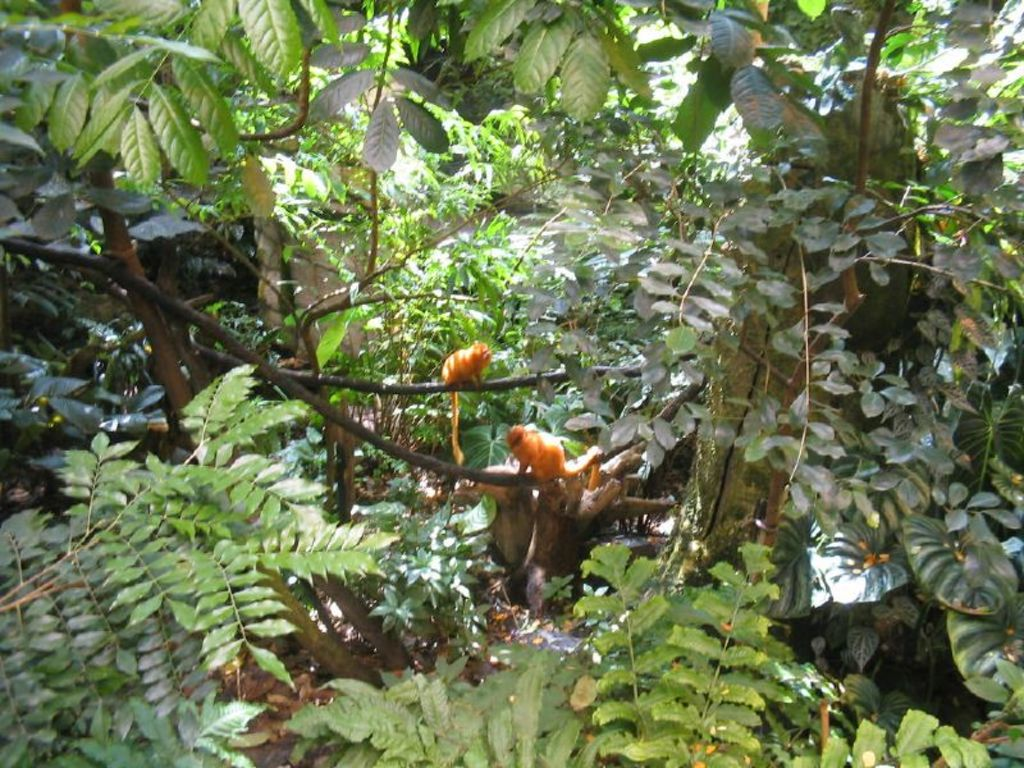Animal: (438, 335, 495, 465), (500, 417, 600, 485)
